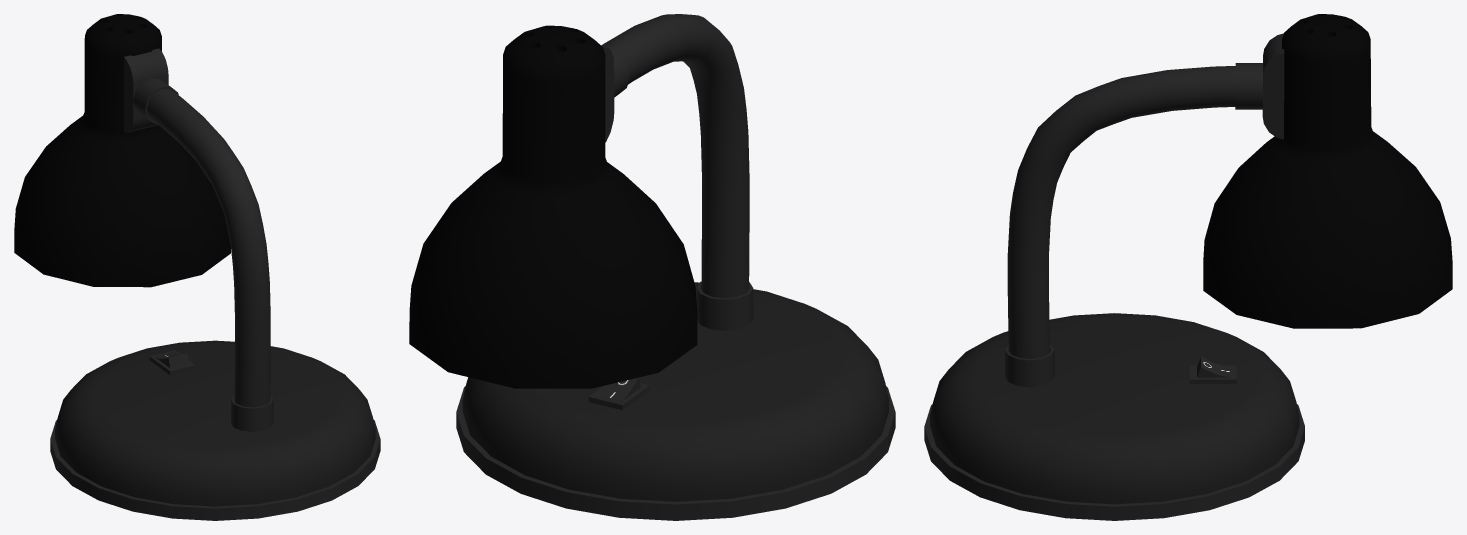
The model's file is Desk_Lamp.glb.
3 renders of one model, left to right at view 1: azimuth 30°, elevation 25°; view 2: azimuth 150°, elevation 25°; view 3: azimuth 270°, elevation 25°, orthographic. The views are drawn at different scales.
Visible parts, largest first — view 1: unnamed (×6); view 2: unnamed (×8); view 3: unnamed (×6).
Part boxes in pixels (x1,y1,x2,y2): unnamed (×6): (14, 14, 380, 520); unnamed (×8): (409, 14, 895, 520); unnamed (×6): (924, 14, 1452, 520).
Bounding box in the file's own units: 1.62 × 1.97 × 2.25.
Materials: 7 (1 with a texture image).
